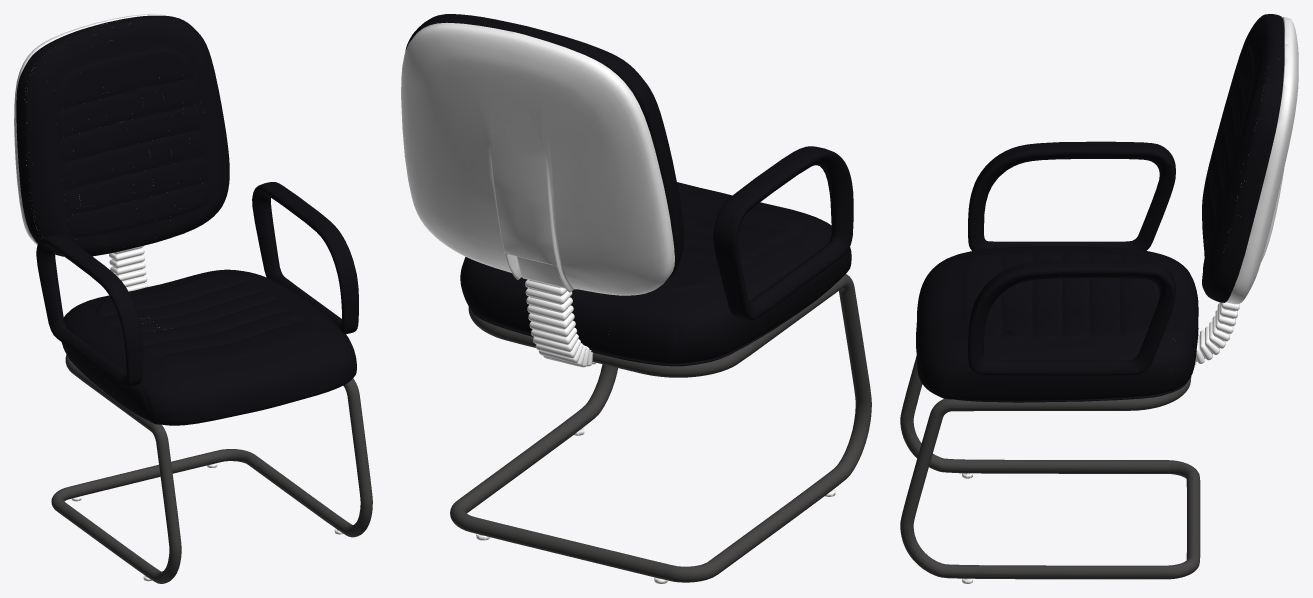
The model's file is officechair.glb.
3 renders of one model, left to right at view 1: azimuth 30°, elevation 25°; view 2: azimuth 150°, elevation 25°; view 3: azimuth 270°, elevation 25°, orthographic. The views are drawn at different scales.
Visible parts, largest first — view 1: SM_Desk armchair-02; view 2: SM_Desk armchair-02; view 3: SM_Desk armchair-02.
Part boxes in pixels (x1,y1,x2,y2): SM_Desk armchair-02: [14, 14, 372, 583]; SM_Desk armchair-02: [401, 14, 871, 583]; SM_Desk armchair-02: [900, 14, 1298, 583].
Bounding box in the file's own units: 0.7019 × 1.24 × 0.9183.
Materials: 4 (1 with a texture image).
